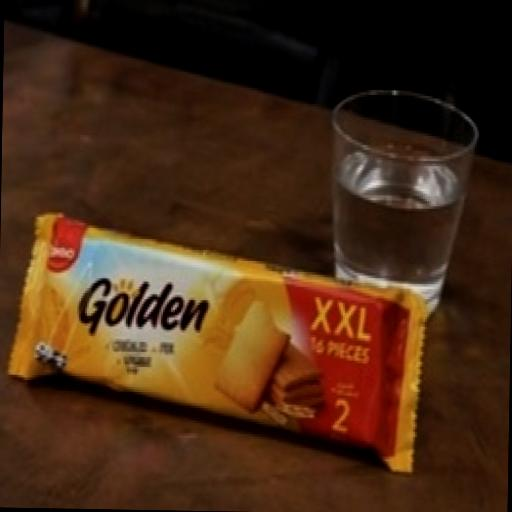golden: (0, 135, 477, 512)
